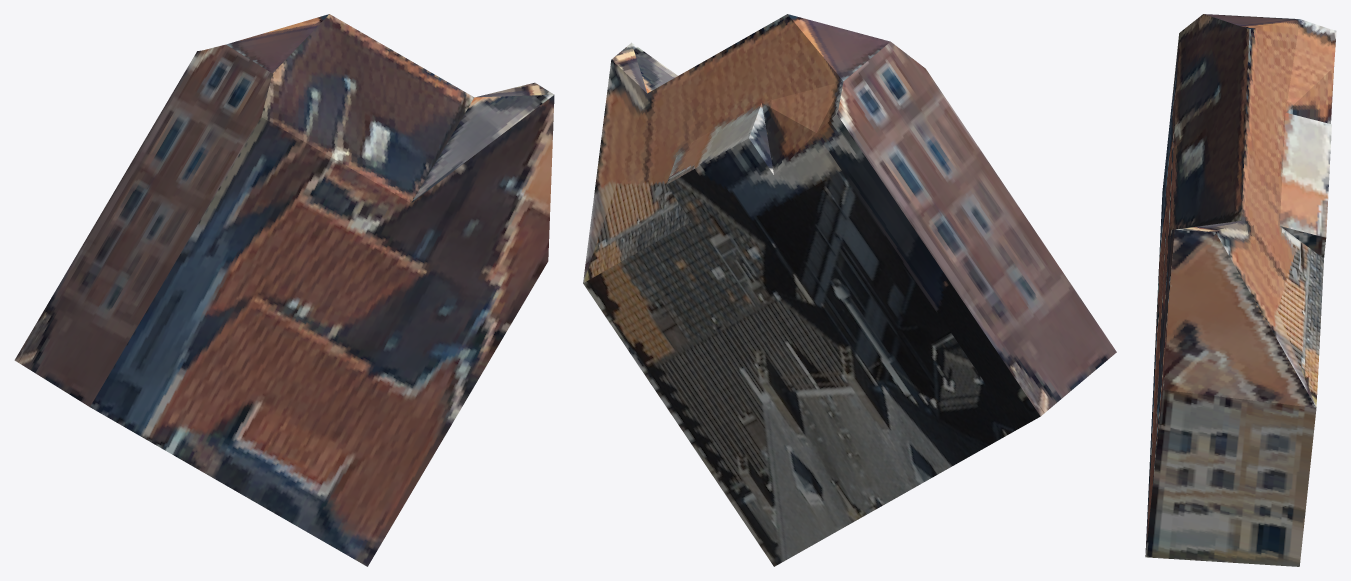
The picture shows the model from 3 angles, left to right: view 1: azimuth 30°, elevation 25°; view 2: azimuth 150°, elevation 25°; view 3: azimuth 270°, elevation 25°; orthographic projection. The views are drawn at different scales.
Parts seen in each view (by area): view 1: BAG_0599100000760364 (×4); view 2: BAG_0599100000760364 (×5); view 3: BAG_0599100000760364 (×5).
Boxes of the visible parts, left/top/right/bottom form: BAG_0599100000760364 (×4): left=14, top=14, right=554, bottom=566; BAG_0599100000760364 (×5): left=583, top=14, right=1116, bottom=566; BAG_0599100000760364 (×5): left=1145, top=14, right=1336, bottom=566.
Bounding box in the file's own units: 21.99 × 23.31 × 7.43.
1 material, 1 textured.
